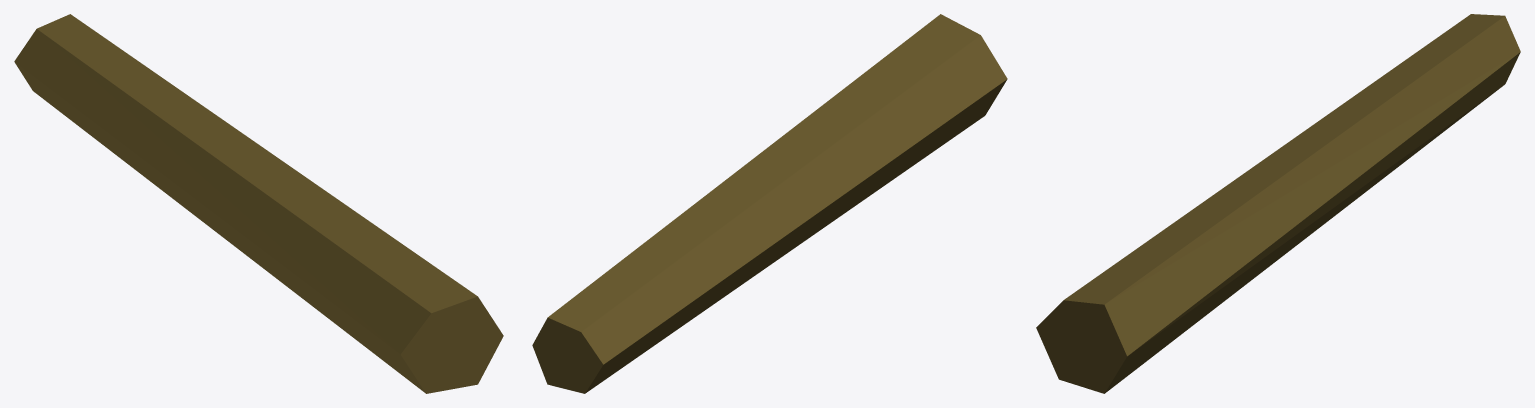
Rendered from Prop_Timber_Fire_02.fbx.
The picture shows the model from 3 angles, left to right: view 1: azimuth 30°, elevation 25°; view 2: azimuth 150°, elevation 25°; view 3: azimuth 330°, elevation 25°; orthographic projection.
Parts seen in each view (by area): view 1: Prop_Timber_Fire_02; view 2: Prop_Timber_Fire_02; view 3: Prop_Timber_Fire_02.
Boxes of the visible parts, x1=… form: Prop_Timber_Fire_02: x1=14, y1=14, x2=503, y2=393; Prop_Timber_Fire_02: x1=532, y1=14, x2=1007, y2=393; Prop_Timber_Fire_02: x1=1036, y1=14, x2=1520, y2=393.
Size of the model in its own units: 184 by 160 by 1328.
